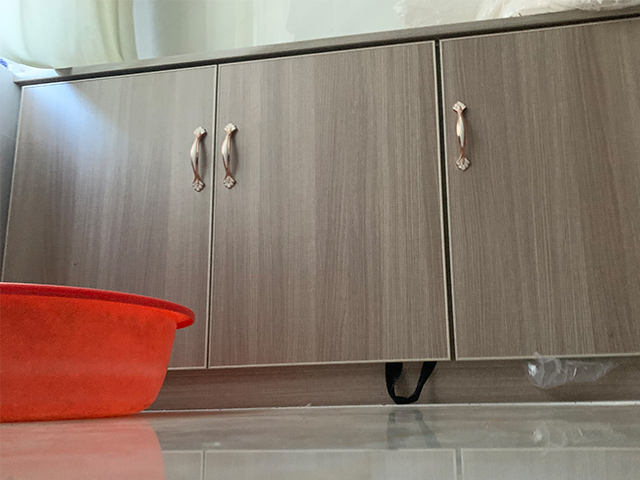cabinet: (1, 3, 640, 411)
